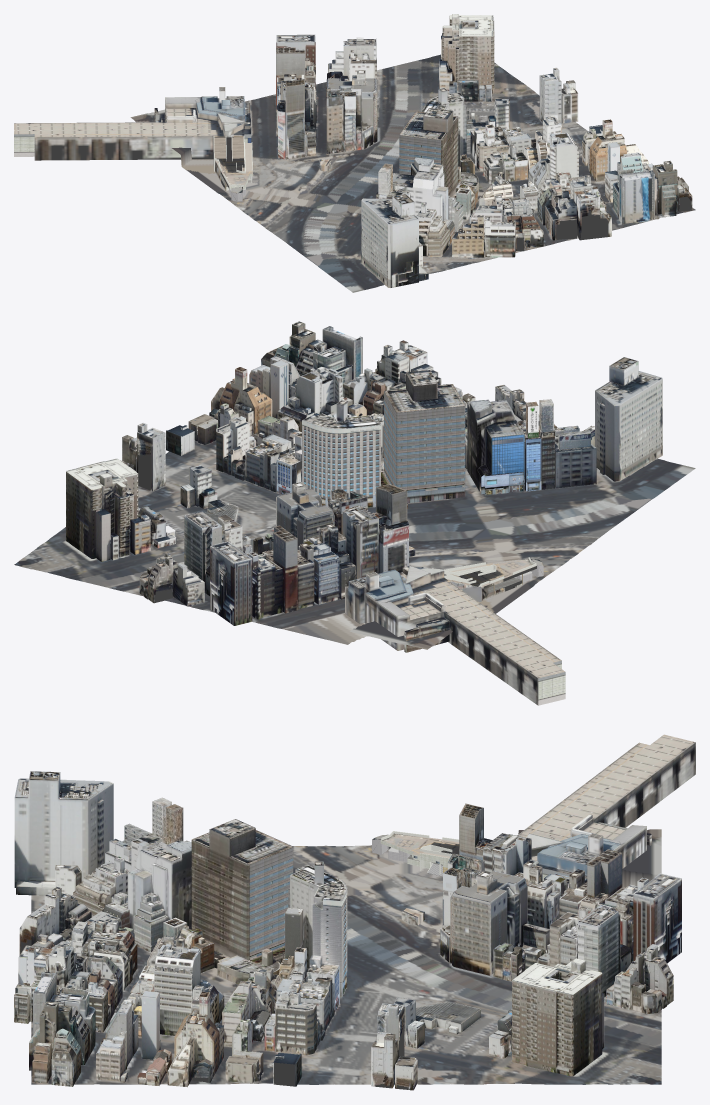
Rendered from plateau-ueno.glb.
3 views of the same model, one above another, from view 1: azimuth 30°, elevation 25°; view 2: azimuth 150°, elevation 25°; view 3: azimuth 270°, elevation 25° (orthographic). The views are drawn at different scales.
Parts seen in each view (by area): view 1: plateau; view 2: plateau; view 3: plateau.
Boxes of the visible parts, x1=… form: plateau: x1=14, y1=14, x2=695, y2=292; plateau: x1=14, y1=321, x2=695, y2=705; plateau: x1=14, y1=734, x2=695, y2=1090.
Bounding box in the file's own units: 347 × 64.16 × 311.
382 materials, 380 textured.
